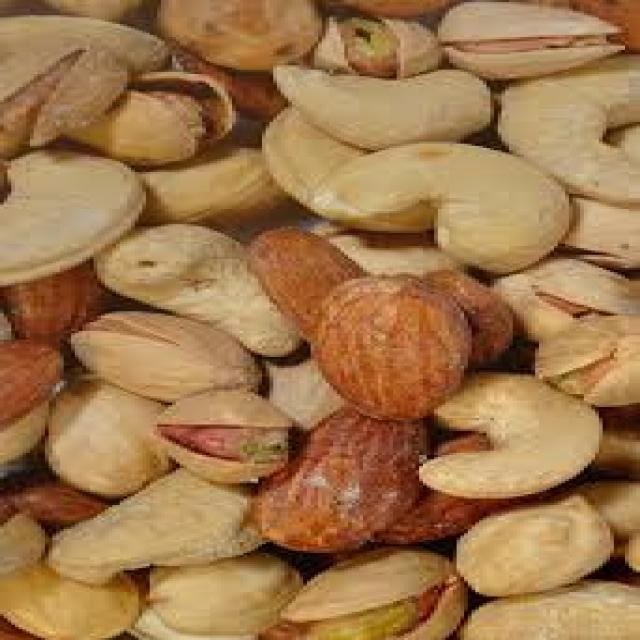Frutta secca: (15, 13, 629, 638)
